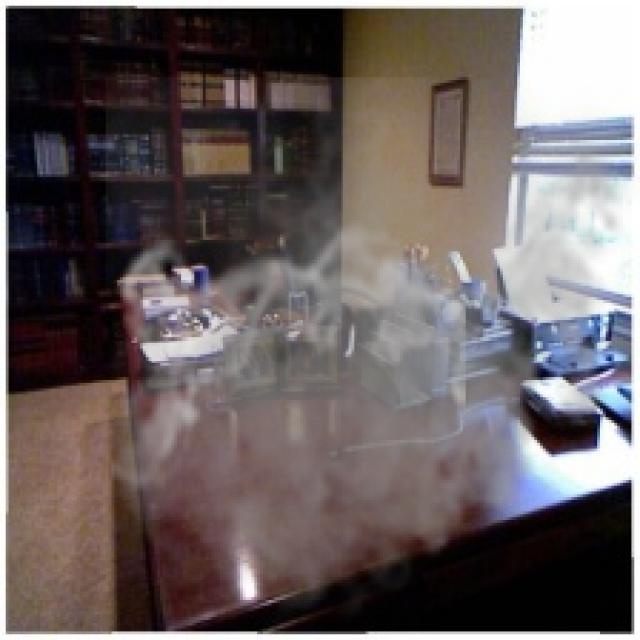smoke: (106, 77, 637, 634)
